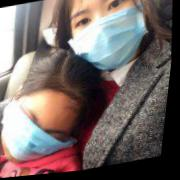OK: (64, 1, 151, 82)
WRONG: (1, 89, 88, 166)
